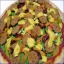pepperoni: (27, 51, 43, 63), (38, 17, 50, 25), (1, 31, 7, 43)
pineapple: (23, 17, 38, 32), (45, 30, 54, 49), (26, 38, 35, 47)
pizza: (1, 1, 64, 64)
